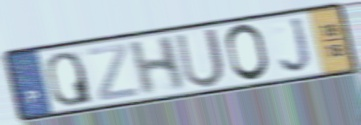H: (127, 33, 187, 99)
J: (278, 15, 315, 76)
O: (224, 22, 272, 84)
Q: (44, 50, 95, 108)
U: (173, 26, 228, 90)
Z: (85, 41, 140, 103)
